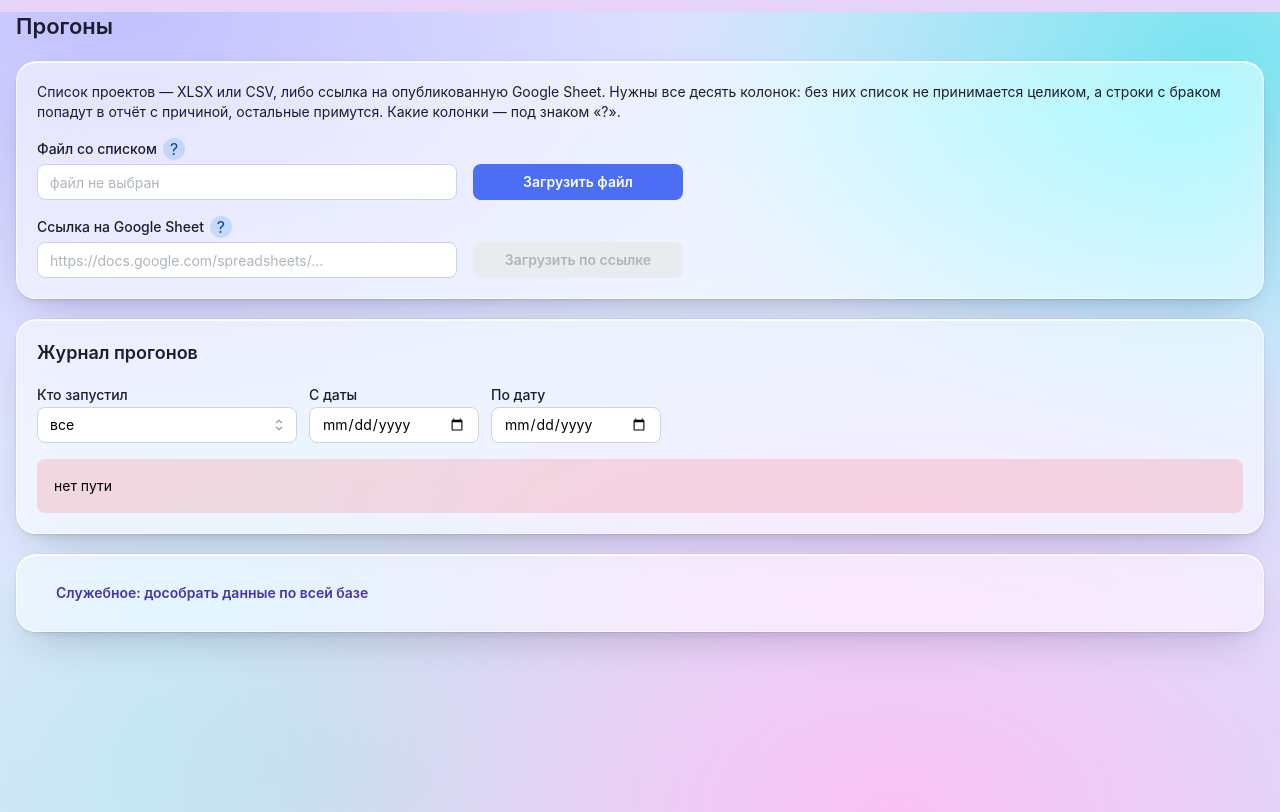
Test case: экран загрузки: отказы источника › E6 и E7: ссылка на закрытую таблицу объясняет, что чинить
In the field named "Ссылка на Google Sheet": coordinates (247, 260) top-left (37, 242), bottom-right (457, 278), type "https://docs.google.com/spreadsheets/d/abc/edit"
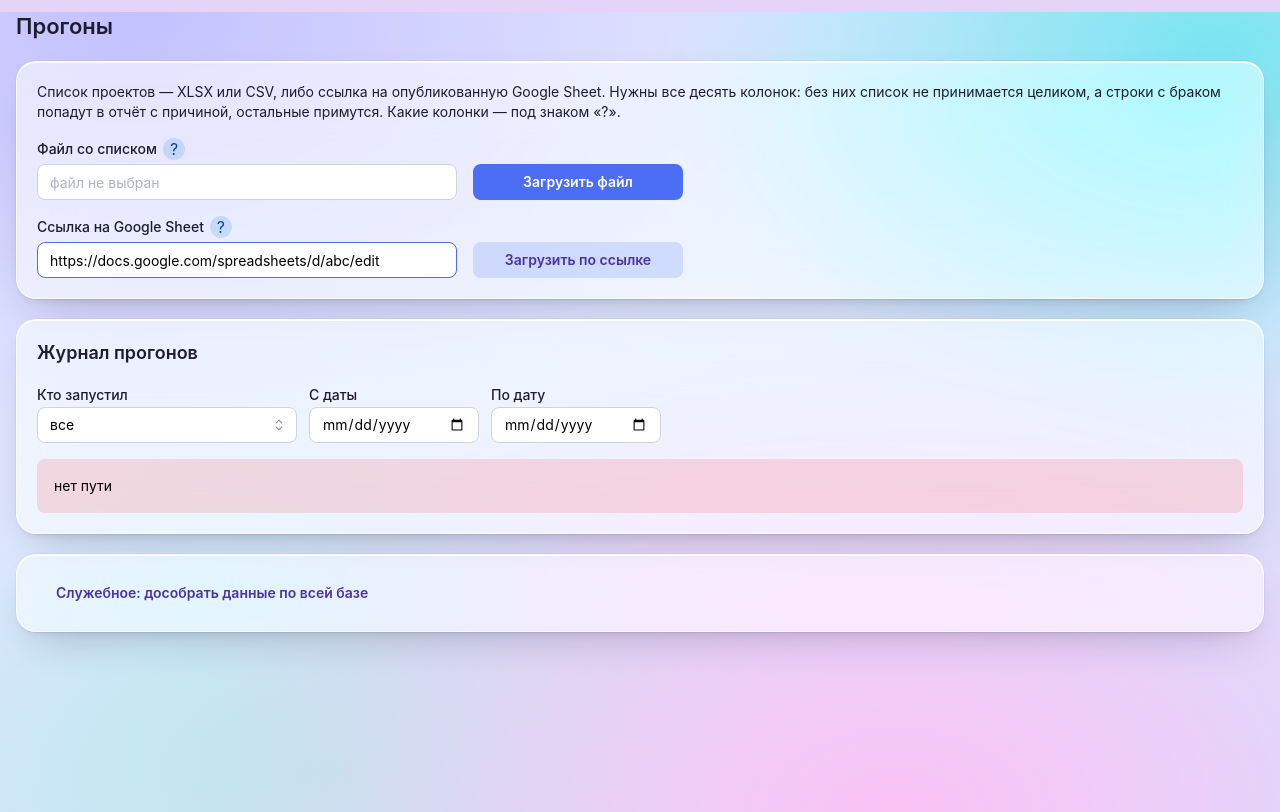
Click the button "Загрузить по ссылке": coordinates (578, 260) top-left (473, 242), bottom-right (683, 278)
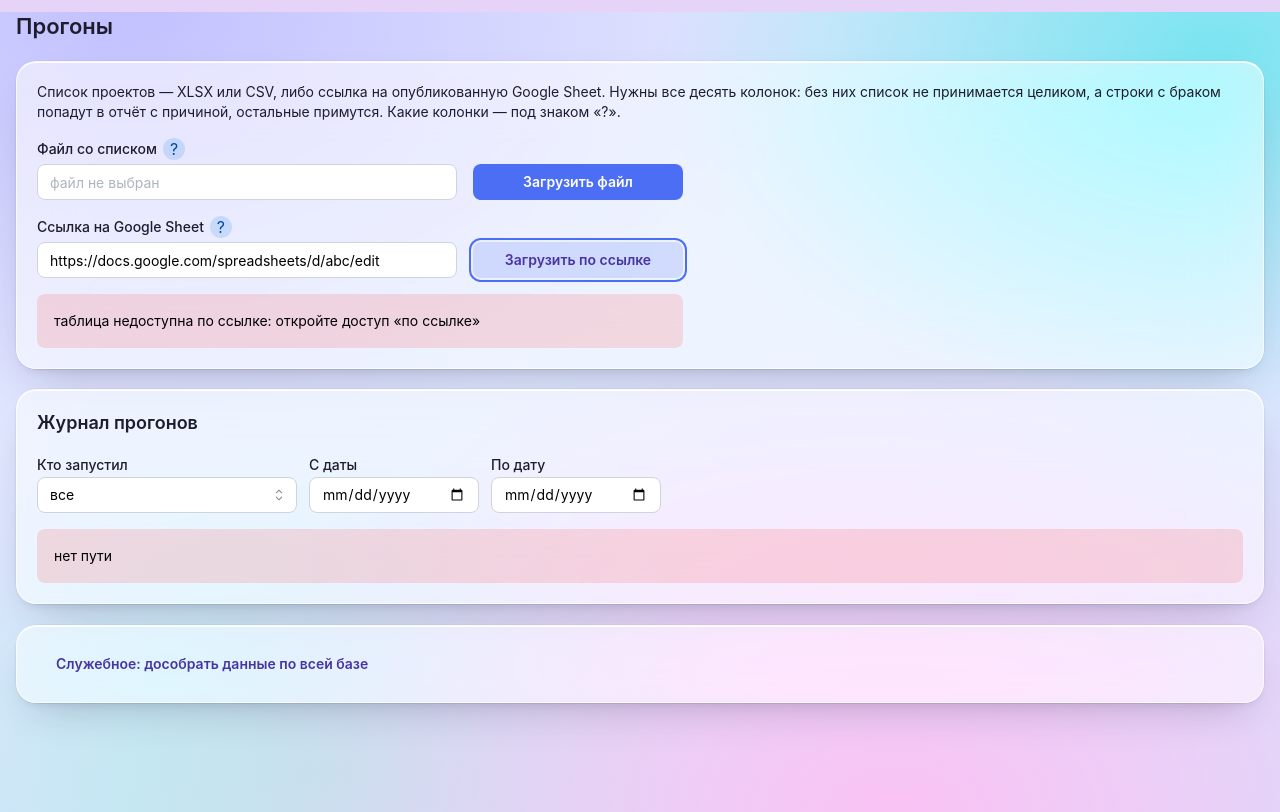
Check: the text "таблица недоступна по ссылке: откройте доступ «по ссылке»" is shown, box top-left (54, 312), bottom-right (480, 329)
